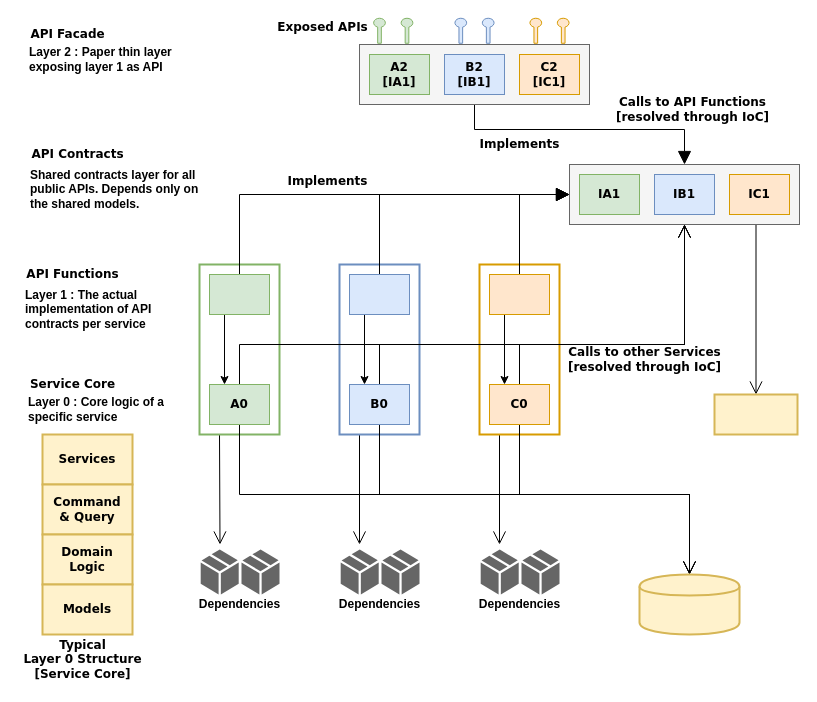
Image size: 817x702. Some labels were removed from this diagram. Here are the shapes that lost their labels. From the top down, the centre of each, then its label:
(x=239, y=294): A1
(x=379, y=294): B1
(x=519, y=294): C1
(x=755, y=414): Shared Models
(x=689, y=604): Data Store
